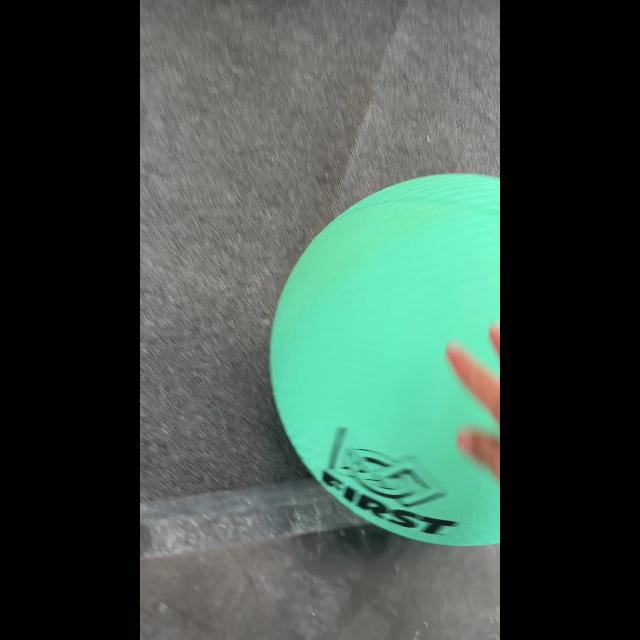ALGAE: (269, 172, 499, 546)
